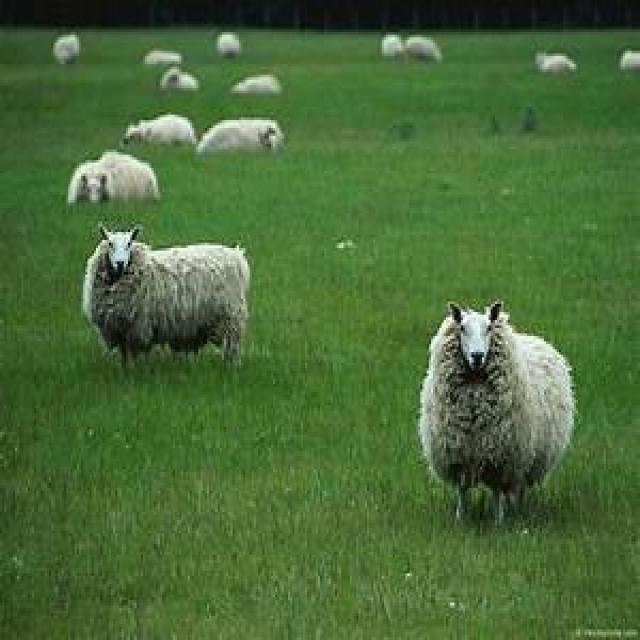sheep: (416, 299, 576, 525), (81, 221, 250, 371), (66, 150, 158, 206), (194, 117, 284, 155), (122, 112, 196, 147), (228, 72, 282, 93), (158, 64, 198, 91), (403, 35, 442, 61), (533, 51, 576, 72), (51, 32, 79, 64), (141, 48, 181, 64), (380, 32, 403, 59), (215, 32, 239, 56), (619, 48, 638, 69)
